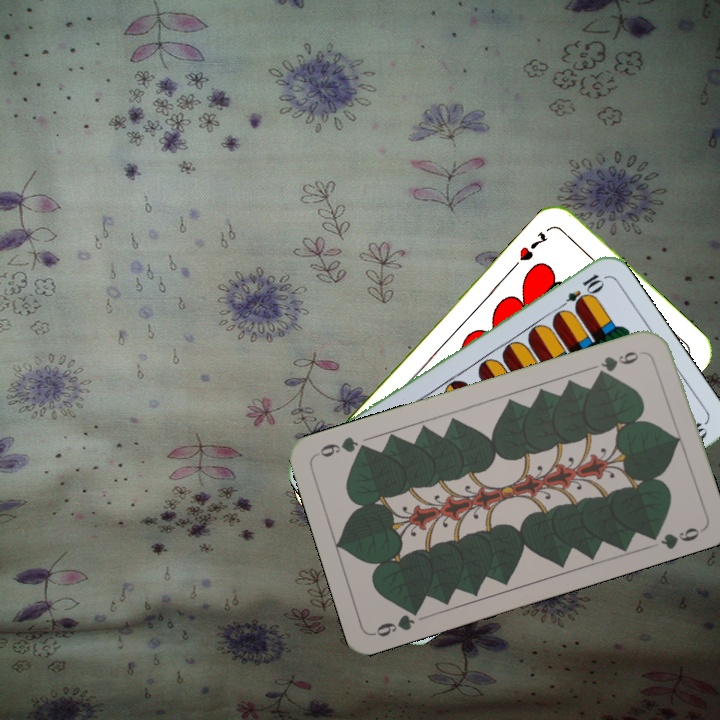E10: (553, 270, 606, 314)
G9: (370, 602, 424, 640), (593, 346, 648, 379)
H7: (515, 228, 551, 264)
